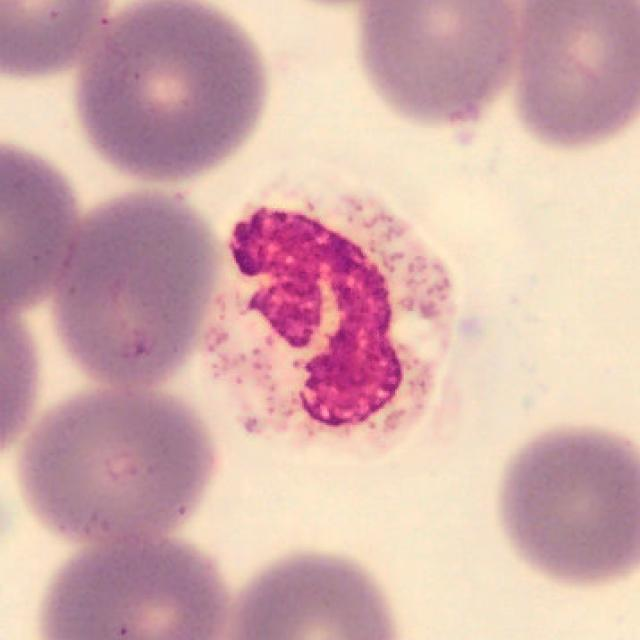Neutrofilo segmentado: (206, 160, 463, 469)
